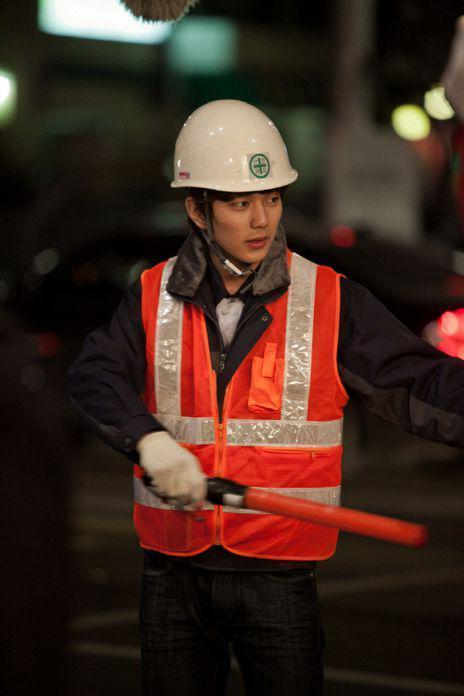helmet: (169, 98, 300, 190)
